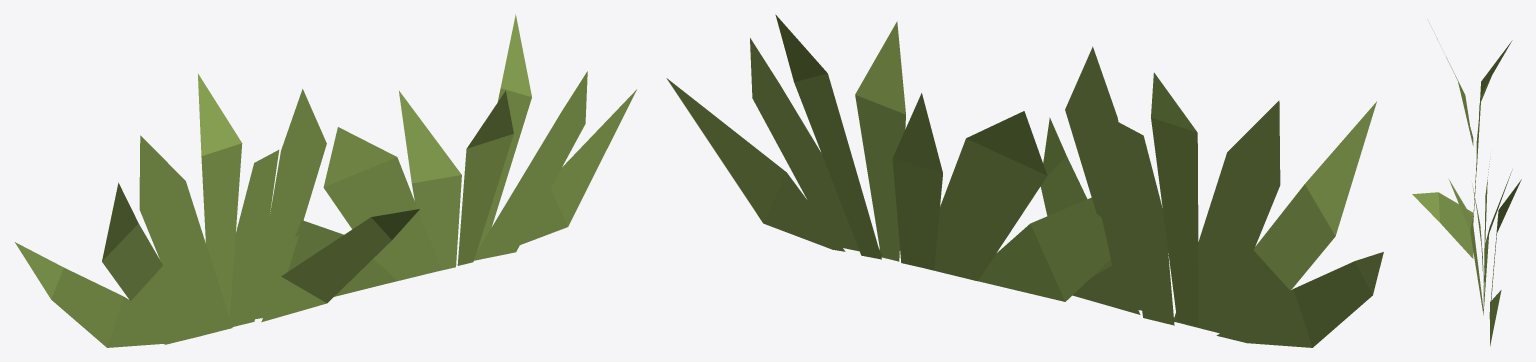
File: grass_03.fbx
3 views of the same model, side by side, from view 1: azimuth 30°, elevation 25°; view 2: azimuth 150°, elevation 25°; view 3: azimuth 270°, elevation 25° (orthographic). The views are drawn at different scales.
Visible parts, largest first — view 1: grass_03; view 2: grass_03; view 3: grass_03.
Part boxes in pixels (<box>): grass_03: <box>15,14,636,347</box>; grass_03: <box>666,14,1383,347</box>; grass_03: <box>1412,19,1521,346</box>.
Size of the model in its own units: 201 by 73.94 by 40.12.
